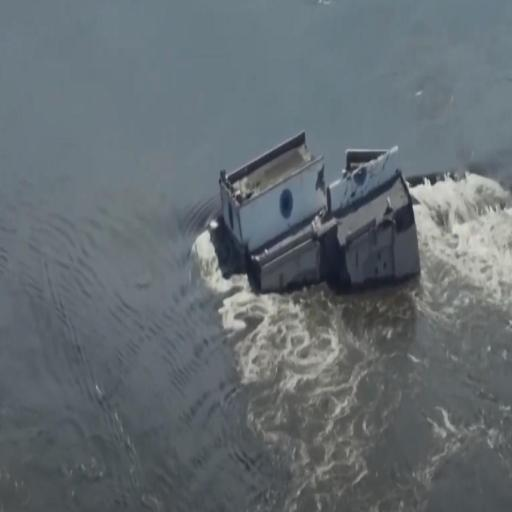flood: (0, 4, 512, 512)
house: (214, 126, 423, 310)
